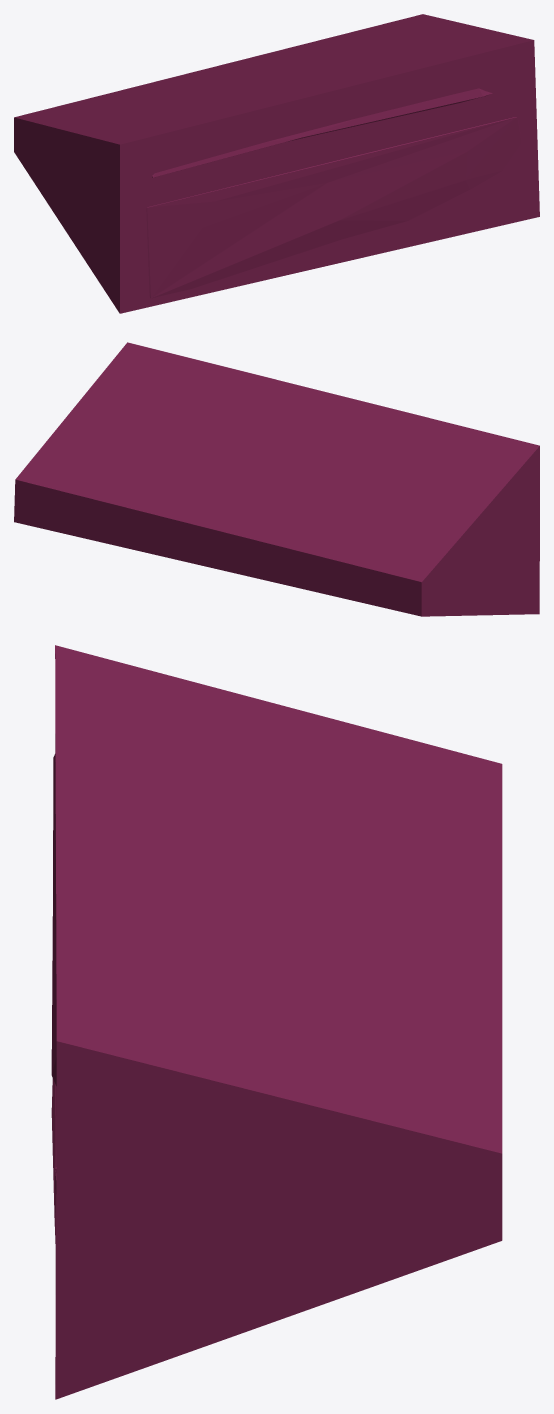
File: timer.fbx
The picture shows the model from 3 angles, top to bottom: view 1: azimuth 30°, elevation 25°; view 2: azimuth 150°, elevation 25°; view 3: azimuth 270°, elevation 25°; orthographic projection. The views are drawn at different scales.
Visible parts, largest first — view 1: Timer Physx, Down, Up; view 2: Timer Physx; view 3: Timer Physx, Up.
Boxes of the visible parts, x1=… form: Timer Physx: x1=14, y1=14, x2=539, y2=313; Down: x1=146, y1=117, x2=521, y2=298; Up: x1=152, y1=88, x2=492, y2=177; Timer Physx: x1=14, y1=342, x2=539, y2=616; Timer Physx: x1=55, y1=645, x2=502, y2=1399; Up: x1=51, y1=754, x2=56, y2=1086.
Bounding box in the file's own units: 20.62 × 9.64 × 8.34.
